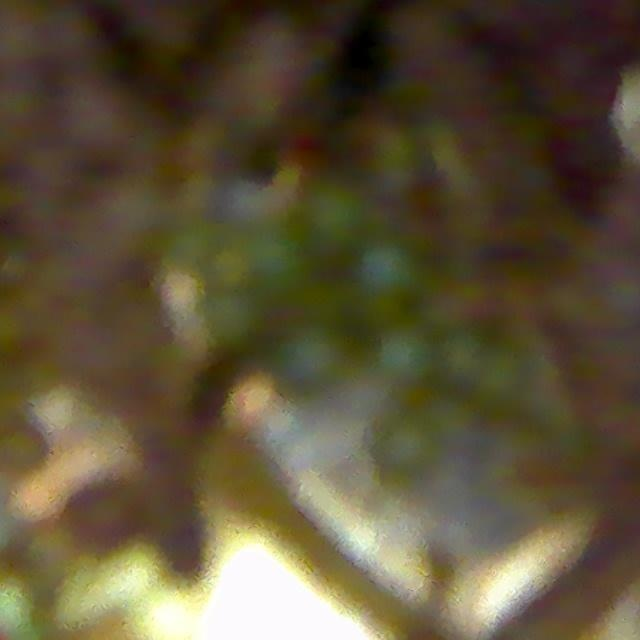SeaGrape: (274, 321, 352, 397), (65, 481, 143, 545), (303, 180, 368, 247), (356, 241, 419, 301), (377, 324, 435, 384)
